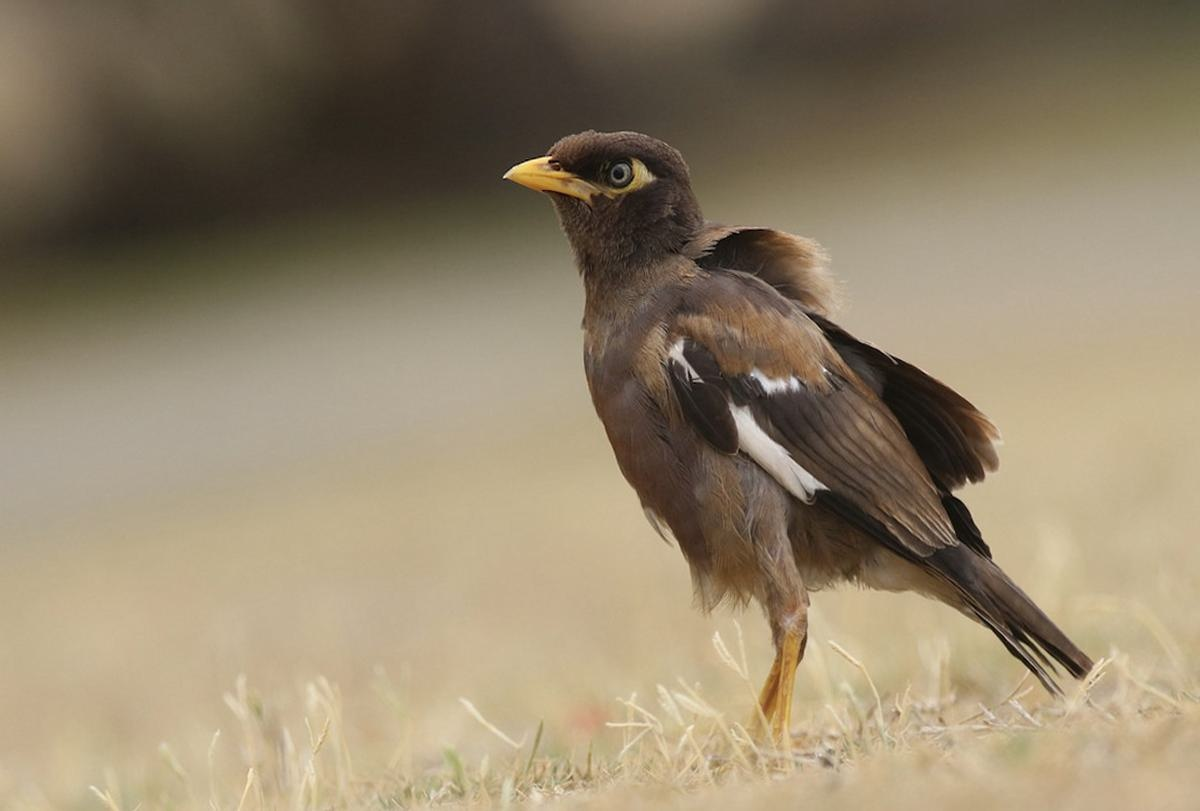myna: (476, 115, 1099, 707)
